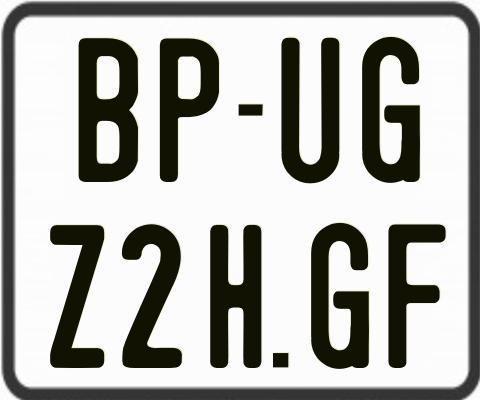2: (122, 224, 184, 371)
B: (78, 37, 141, 185)
F: (385, 223, 448, 369)
G: (310, 220, 373, 371), (362, 36, 420, 187)
H: (207, 222, 261, 369)
P: (157, 37, 221, 186)
U: (279, 38, 340, 187)
Z: (48, 222, 107, 371)
